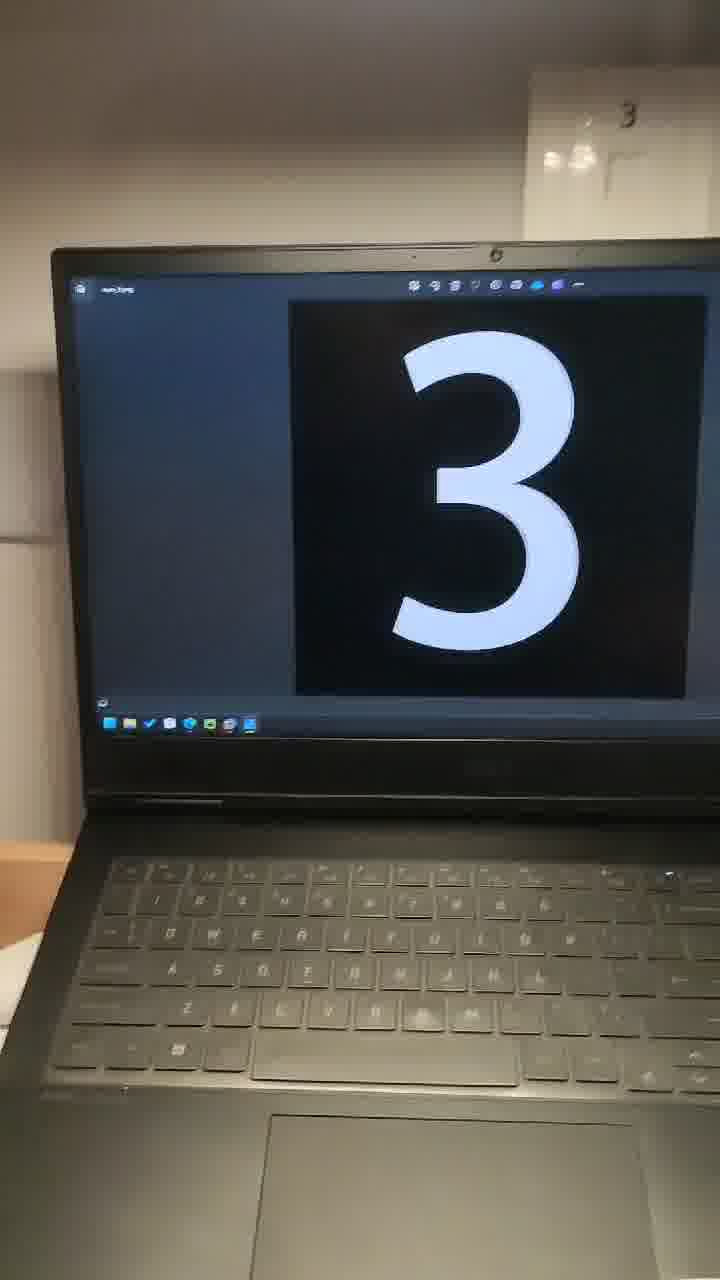three: (352, 233, 639, 699)
